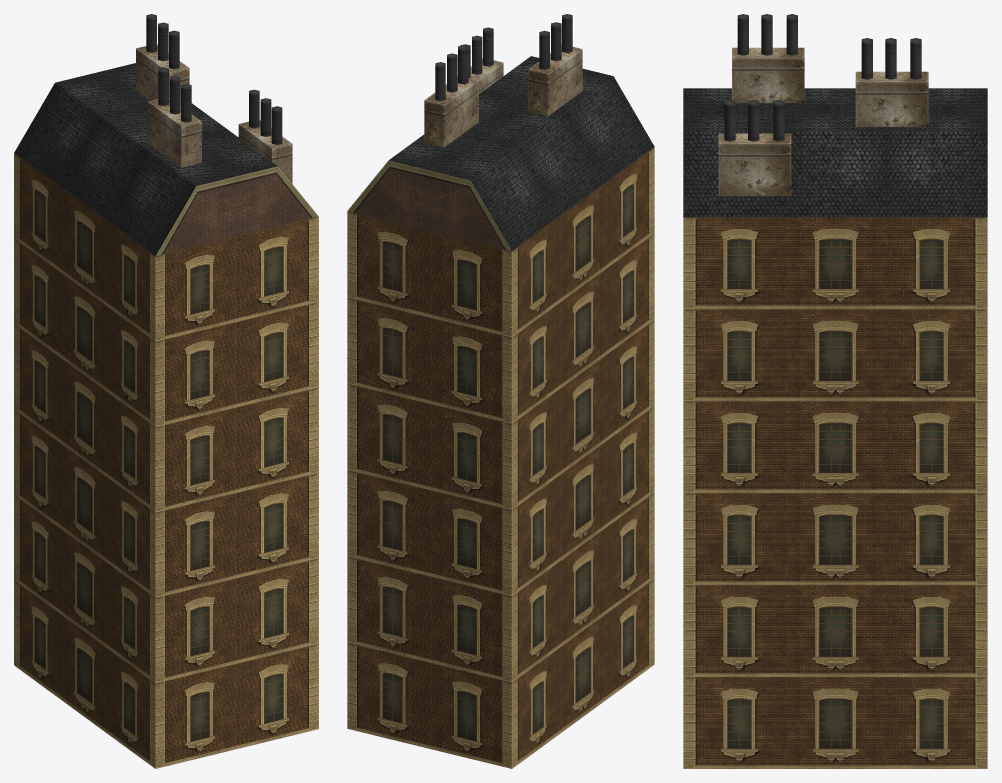
File: Building1.FBX
The picture shows the model from 3 angles, left to right: view 1: azimuth 30°, elevation 25°; view 2: azimuth 150°, elevation 25°; view 3: azimuth 270°, elevation 25°; orthographic projection. The views are drawn at different scales.
Parts seen in each view (by area): view 1: Building1; view 2: Building1; view 3: Building1.
Boxes of the visible parts, <box> form: Building1: <box>14,14,318,768</box>; Building1: <box>347,14,654,768</box>; Building1: <box>683,14,987,768</box>.
Size of the model in its own units: 800 by 3033 by 1200.
